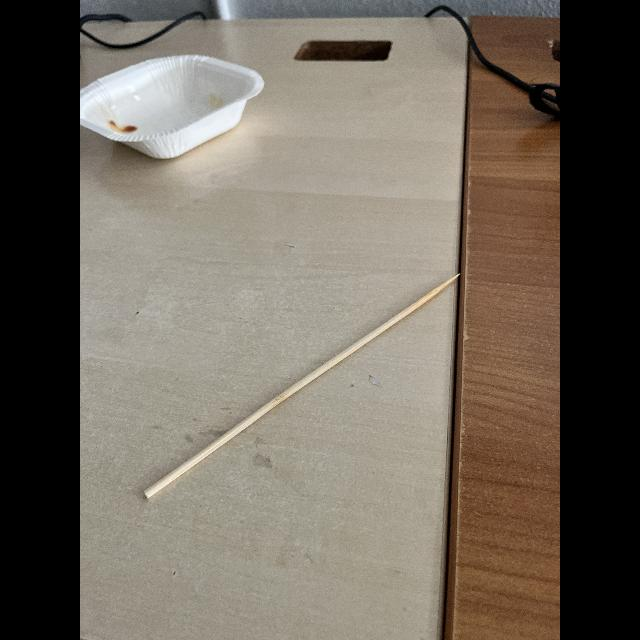cardboard_bowl: (80, 44, 272, 190)
stick: (128, 260, 470, 522)
